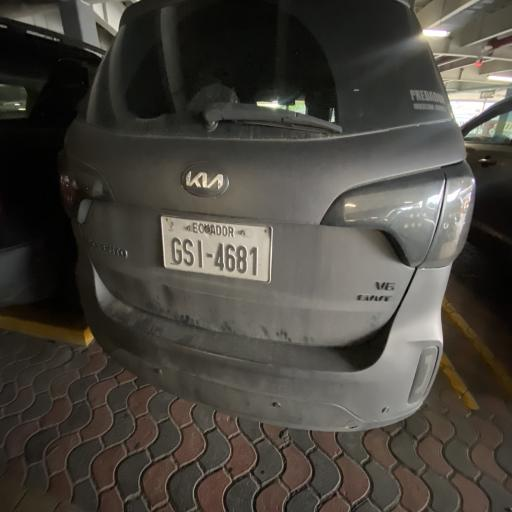license_plate: (162, 216, 271, 282)
